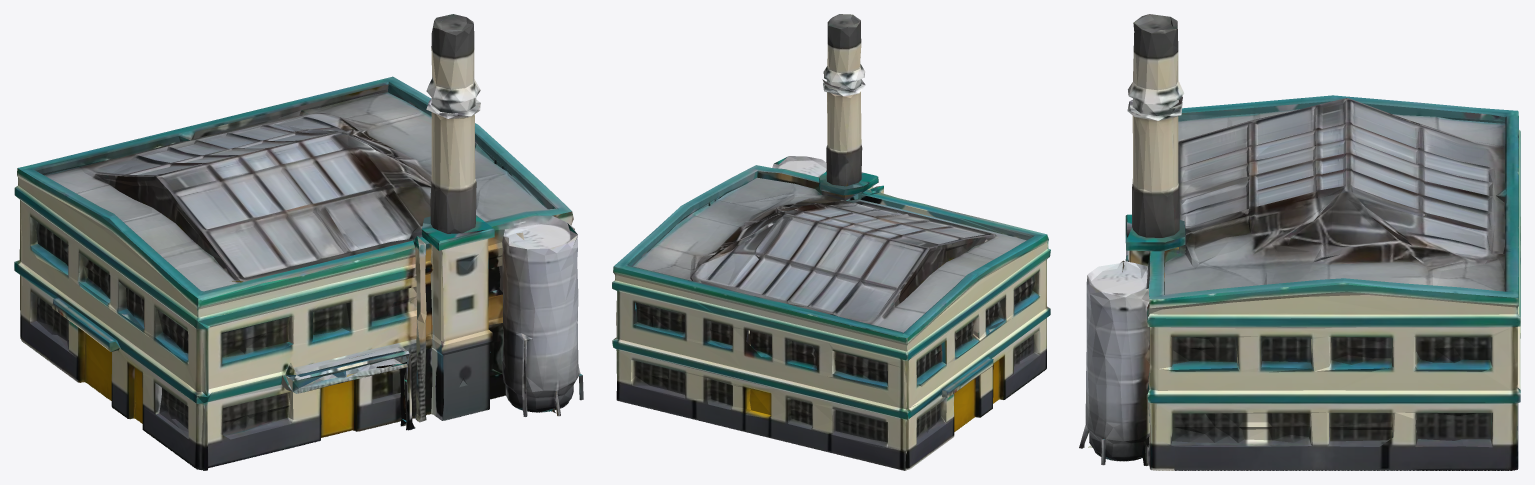
The model's file is works.glb.
The picture shows the model from 3 angles, left to right: view 1: azimuth 30°, elevation 25°; view 2: azimuth 150°, elevation 25°; view 3: azimuth 270°, elevation 25°; orthographic projection. The views are drawn at different scales.
Parts seen in each view (by area): view 1: figure; view 2: figure; view 3: figure.
Part boxes in pixels (x1,y1,x2,y2): figure: [14, 14, 583, 470]; figure: [612, 14, 1050, 470]; figure: [1079, 14, 1520, 470].
Bounding box in the file's own units: 1.05 × 1 × 1.02.
1 material, 1 textured.
